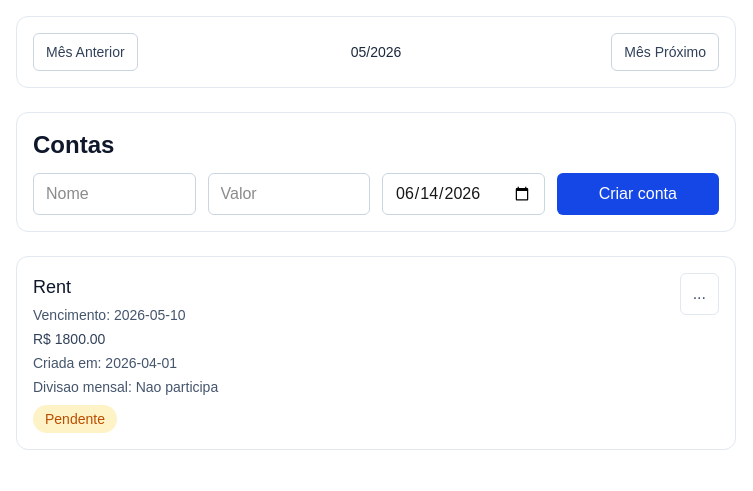
Scenario: AccountsList › marks account as participant in division via menu
Click the button "..." at (699,294), box left=680, top=273, right=719, bottom=315
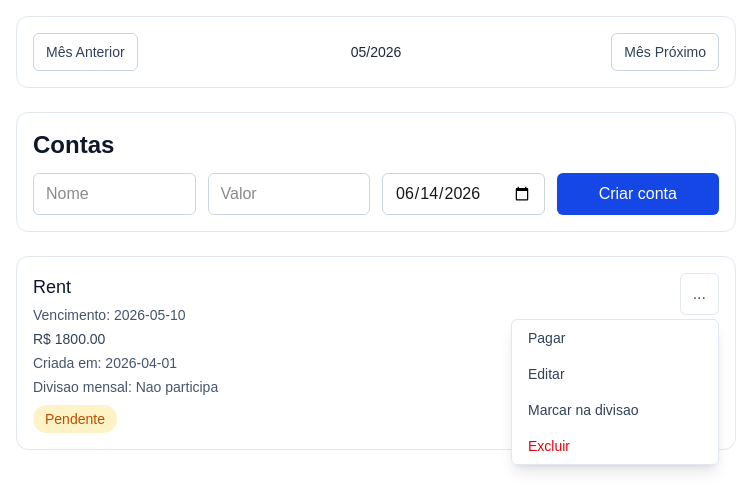
Click the button "Marcar na divisao" at (615,410), box left=512, top=392, right=718, bottom=428
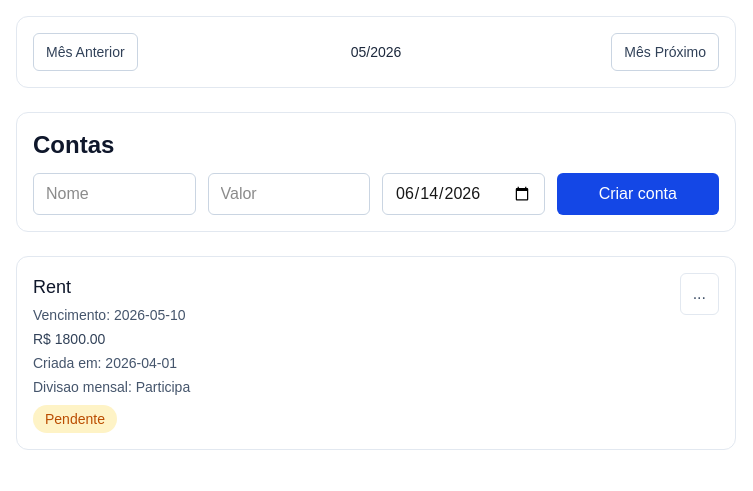
Check: the text "Divisao mensal: Participa" is shown, box left=33, top=377, right=190, bottom=397
